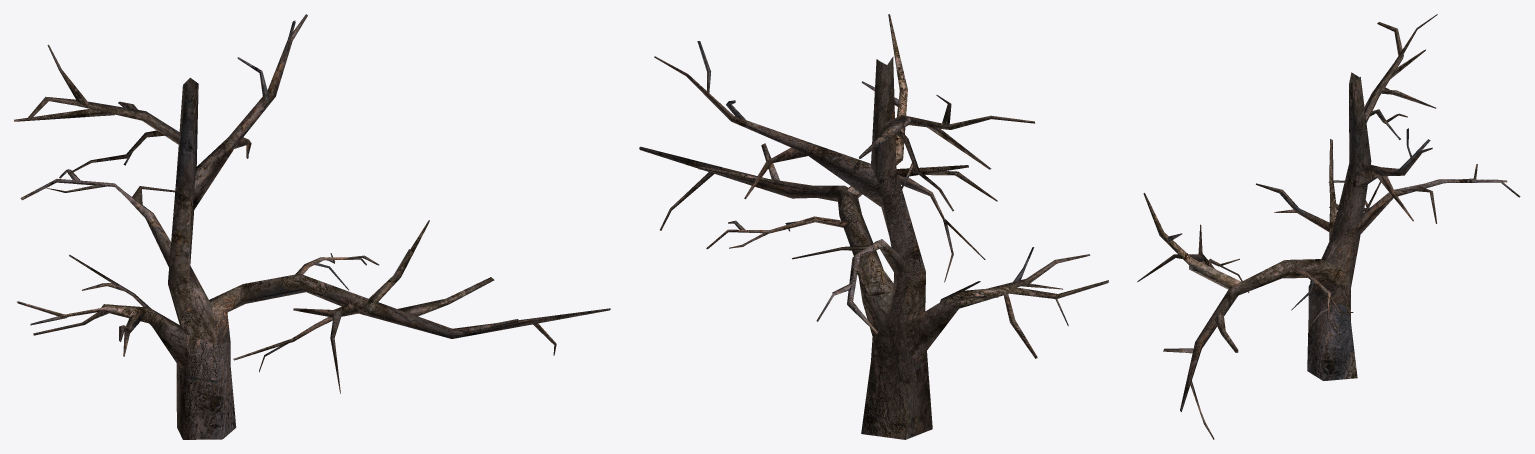
Rendered from Dry tree_C.fbx.
3 views of the same model, side by side, from view 1: azimuth 30°, elevation 25°; view 2: azimuth 150°, elevation 25°; view 3: azimuth 270°, elevation 25° (orthographic). The views are drawn at different scales.
Parts seen in each view (by area): view 1: Dry tree_C; view 2: Dry tree_C; view 3: Dry tree_C.
Boxes of the visible parts, box(x1,y1,x2,y2) form: Dry tree_C: box(14, 14, 610, 439); Dry tree_C: box(639, 14, 1108, 439); Dry tree_C: box(1137, 14, 1520, 439).
Size of the model in its own units: 827 by 569 by 627.
1 material, 1 textured.
